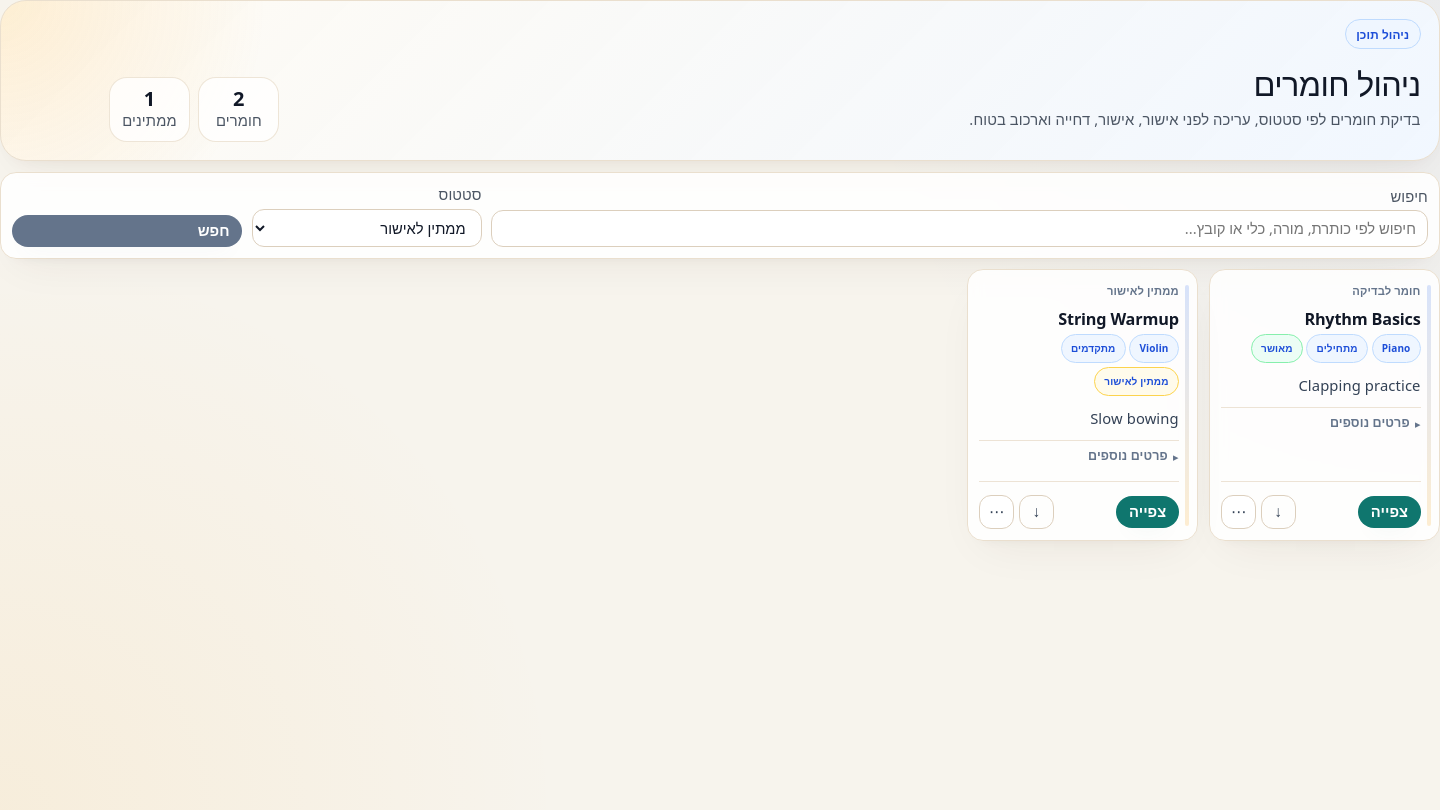
Test case: AdminPendingMaterialsPage › archives a material after confirmation
Expected: the text "String Warmup" is shown, [1058,308,1179,330]
What coordinates should you click on to do the following:
click the button named "פעולות נוספות"
I would click on:
 (997, 512)
Its box is [979,495,1014,529].
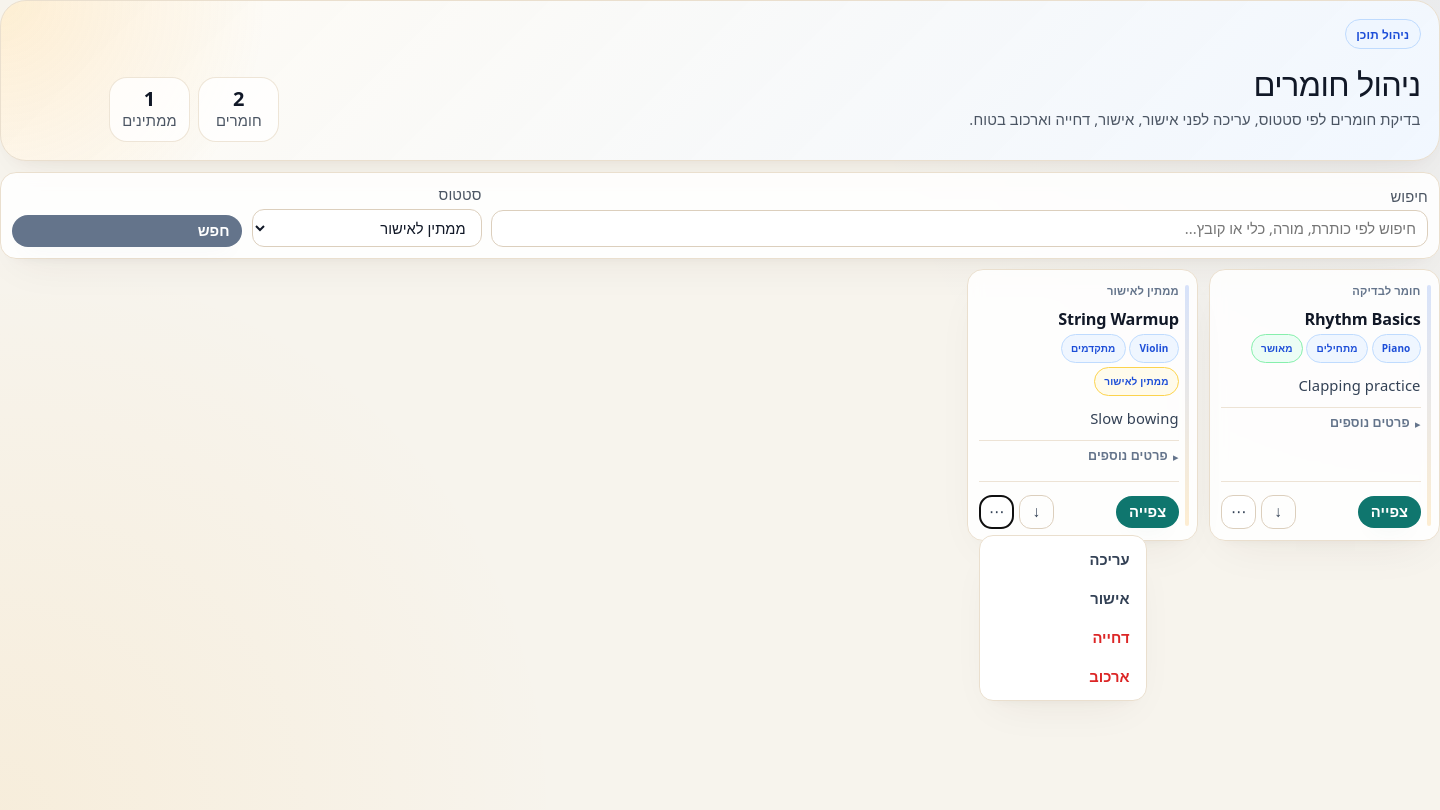
What coordinates should you click on to do the following:
click the menu item "ארכוב"
I would click on:
 (1063, 676)
Its box is [986,658,1141,695].
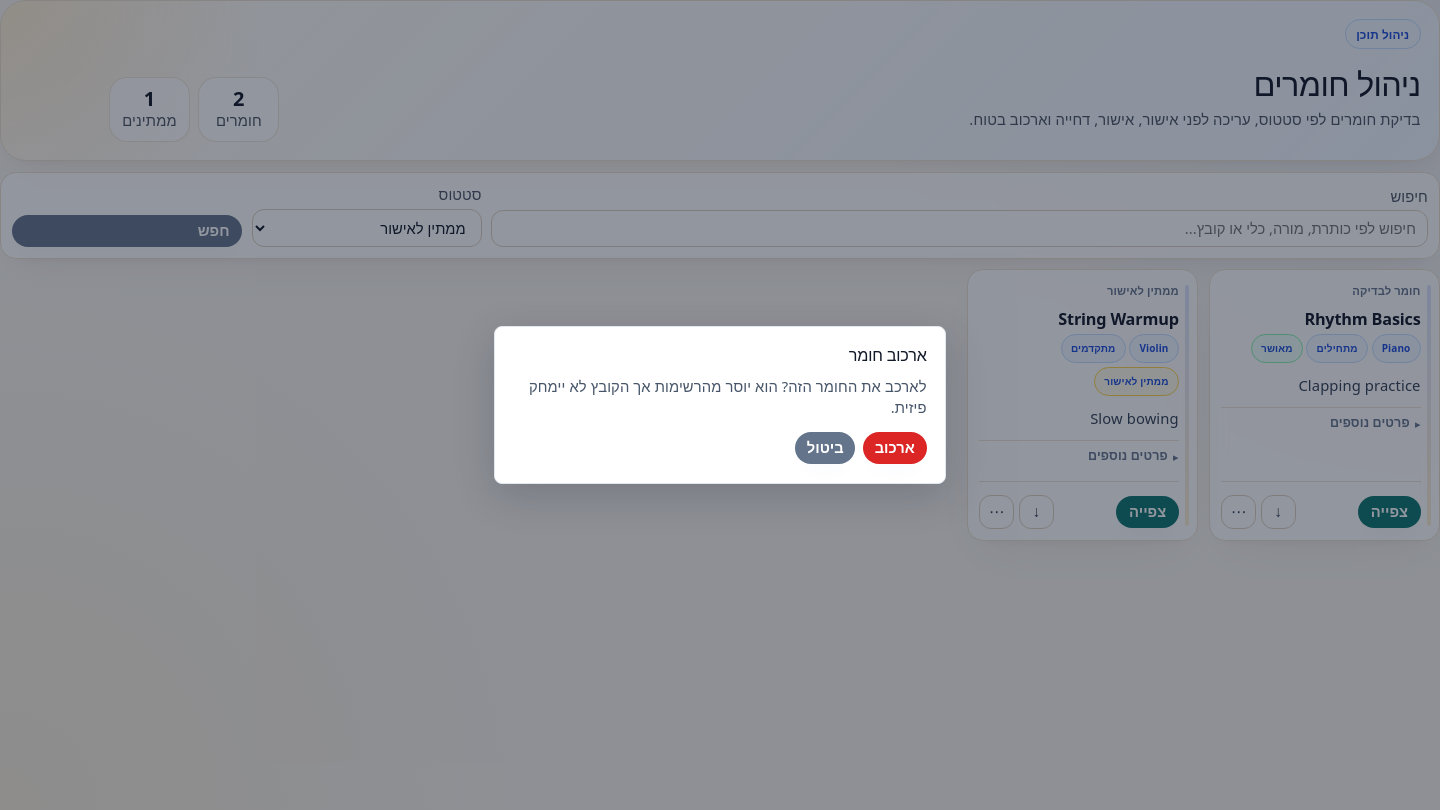
What coordinates should you click on to do the following:
click the button "ארכוב"
I would click on:
 (895, 448)
Its box is [863,432,927,464].
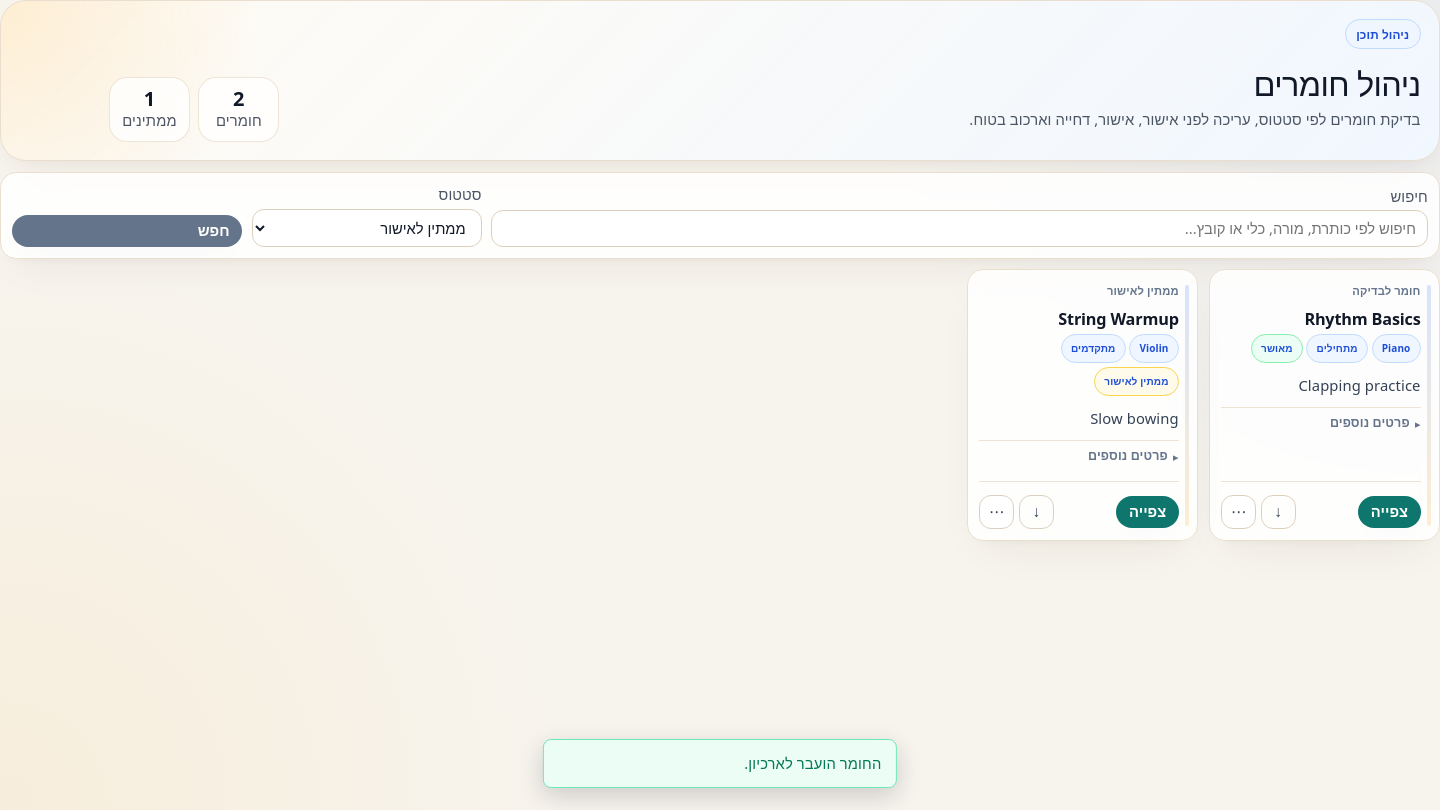
Expected: the text "החומר הועבר לארכיון." is shown, [543,739,897,788]
